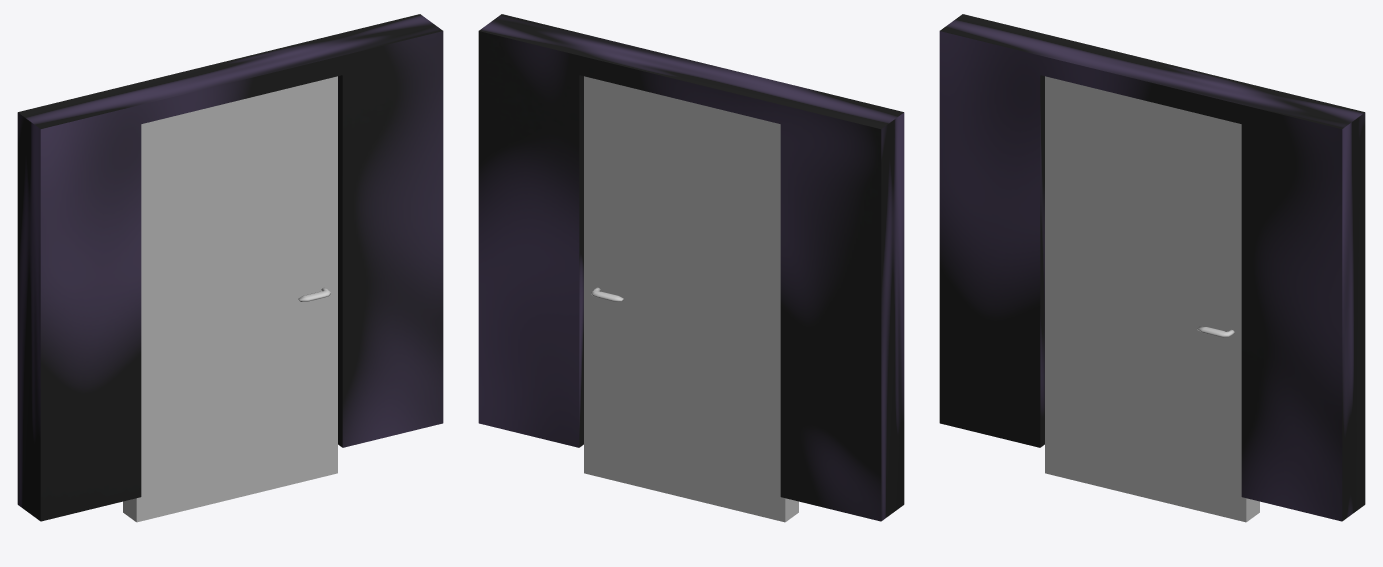
Rendered from Puerta1.fbx.
The picture shows the model from 3 angles, left to right: view 1: azimuth 30°, elevation 25°; view 2: azimuth 150°, elevation 25°; view 3: azimuth 330°, elevation 25°; orthographic projection.
Parts seen in each view (by area): view 1: Marco Puerta, Puerta; view 2: Marco Puerta, Puerta; view 3: Marco Puerta, Puerta.
Part boxes in pixels (<box>): Marco Puerta: <box>17,14,443,521</box>; Puerta: <box>123,76,337,522</box>; Marco Puerta: <box>478,14,904,521</box>; Puerta: <box>584,76,798,522</box>; Marco Puerta: <box>939,14,1365,521</box>; Puerta: <box>1045,76,1259,522</box>.
Size of the model in its own units: 200 by 200 by 25.64.
